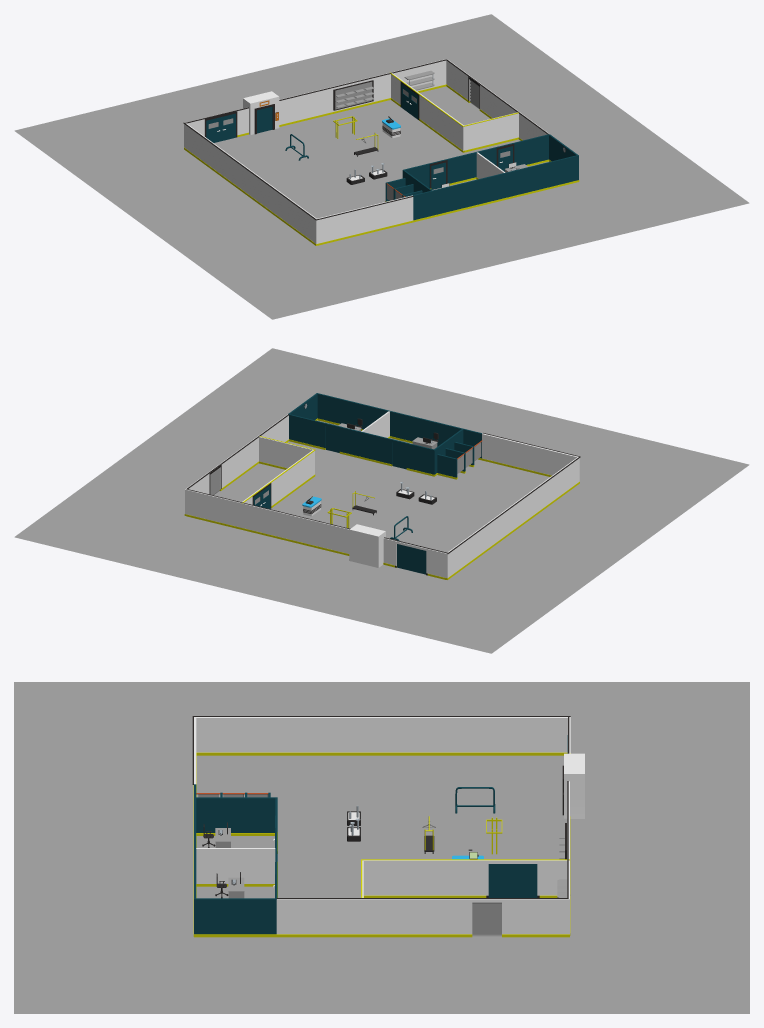
Rendered from outlet_rush.fbx.
The picture shows the model from 3 angles, top to bottom: view 1: azimuth 30°, elevation 25°; view 2: azimuth 150°, elevation 25°; view 3: azimuth 270°, elevation 25°; orthographic projection. The views are drawn at different scales.
Visible parts, largest first — view 1: floor__1, floor__, walll13, walll12, walll6, walll2, walll7, walll9, lift, walll16, walll3, walll5 (+4 smaller); view 2: floor__1, floor__, walll13, walll12, walll6, walll9, walll16, walll5, walll2, lift, walll7, walll4 (+3 smaller); view 3: floor__1, floor__, walll12, walll6, walll2, walll17, walll15, lift, door_slide, doors3, doors4, walll13.
Part boxes in pixels (x1,y1,x2,y2): floor__1: [14, 14, 749, 319]; floor__: [214, 86, 577, 244]; walll13: [317, 155, 579, 245]; walll12: [184, 123, 317, 245]; walll6: [446, 59, 578, 179]; walll2: [391, 73, 464, 152]; walll7: [464, 112, 518, 152]; walll9: [469, 134, 548, 180]; lift: [243, 91, 279, 134]; walll16: [402, 153, 470, 188]; walll3: [279, 92, 312, 126]; walll5: [392, 59, 446, 92]; floor__1: [14, 348, 749, 653]; floor__: [186, 420, 549, 574]; walll13: [317, 393, 577, 476]; walll12: [446, 456, 579, 579]; walll6: [184, 393, 317, 515]; walll9: [289, 414, 368, 460]; walll16: [367, 433, 435, 476]; walll5: [186, 489, 240, 529]; walll2: [240, 450, 315, 529]; lift: [349, 524, 385, 567]; walll7: [259, 436, 312, 469]; walll4: [241, 503, 281, 539]; floor__1: [14, 682, 749, 1013]; floor__: [196, 755, 570, 936]; walll12: [194, 717, 570, 755]; walll6: [194, 898, 569, 937]; walll2: [362, 860, 569, 897]; walll17: [196, 797, 275, 835]; walll15: [196, 848, 275, 886]; lift: [562, 753, 584, 818]; door_slide: [472, 902, 501, 936]; doors3: [488, 864, 512, 897]; doors4: [513, 864, 537, 897]; walll13: [193, 718, 196, 936].
Bounding box in the file's own units: 4907 × 350 × 4597.
